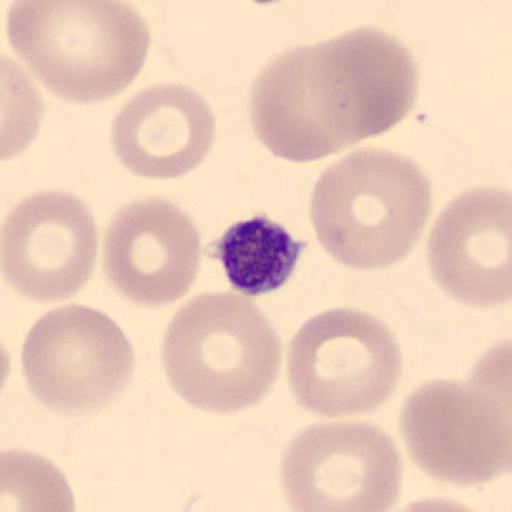Platelet: (213, 211, 308, 298)
RBC: (308, 143, 434, 273), (160, 289, 284, 416), (5, 0, 153, 106), (246, 37, 366, 166), (18, 301, 136, 417), (284, 306, 404, 420), (309, 23, 421, 145), (398, 376, 512, 486), (278, 419, 406, 512), (101, 194, 203, 308), (2, 188, 100, 304), (110, 80, 218, 182), (425, 184, 512, 308), (463, 335, 512, 479), (1, 445, 76, 512), (2, 53, 44, 163), (378, 493, 494, 512)
